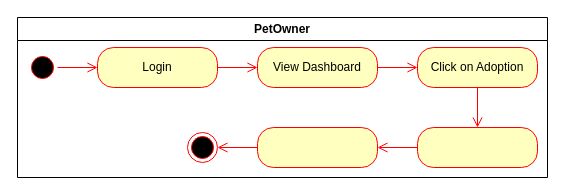
Some shapes in this 565 by 195 pixel diagram are drawn without their labels. Here are the shapes that lost their labels. From the top down, the box of each, then its label:
(256, 126, 378, 168): View Adoption Pool
(416, 126, 538, 168): Click on Adoption Pool
